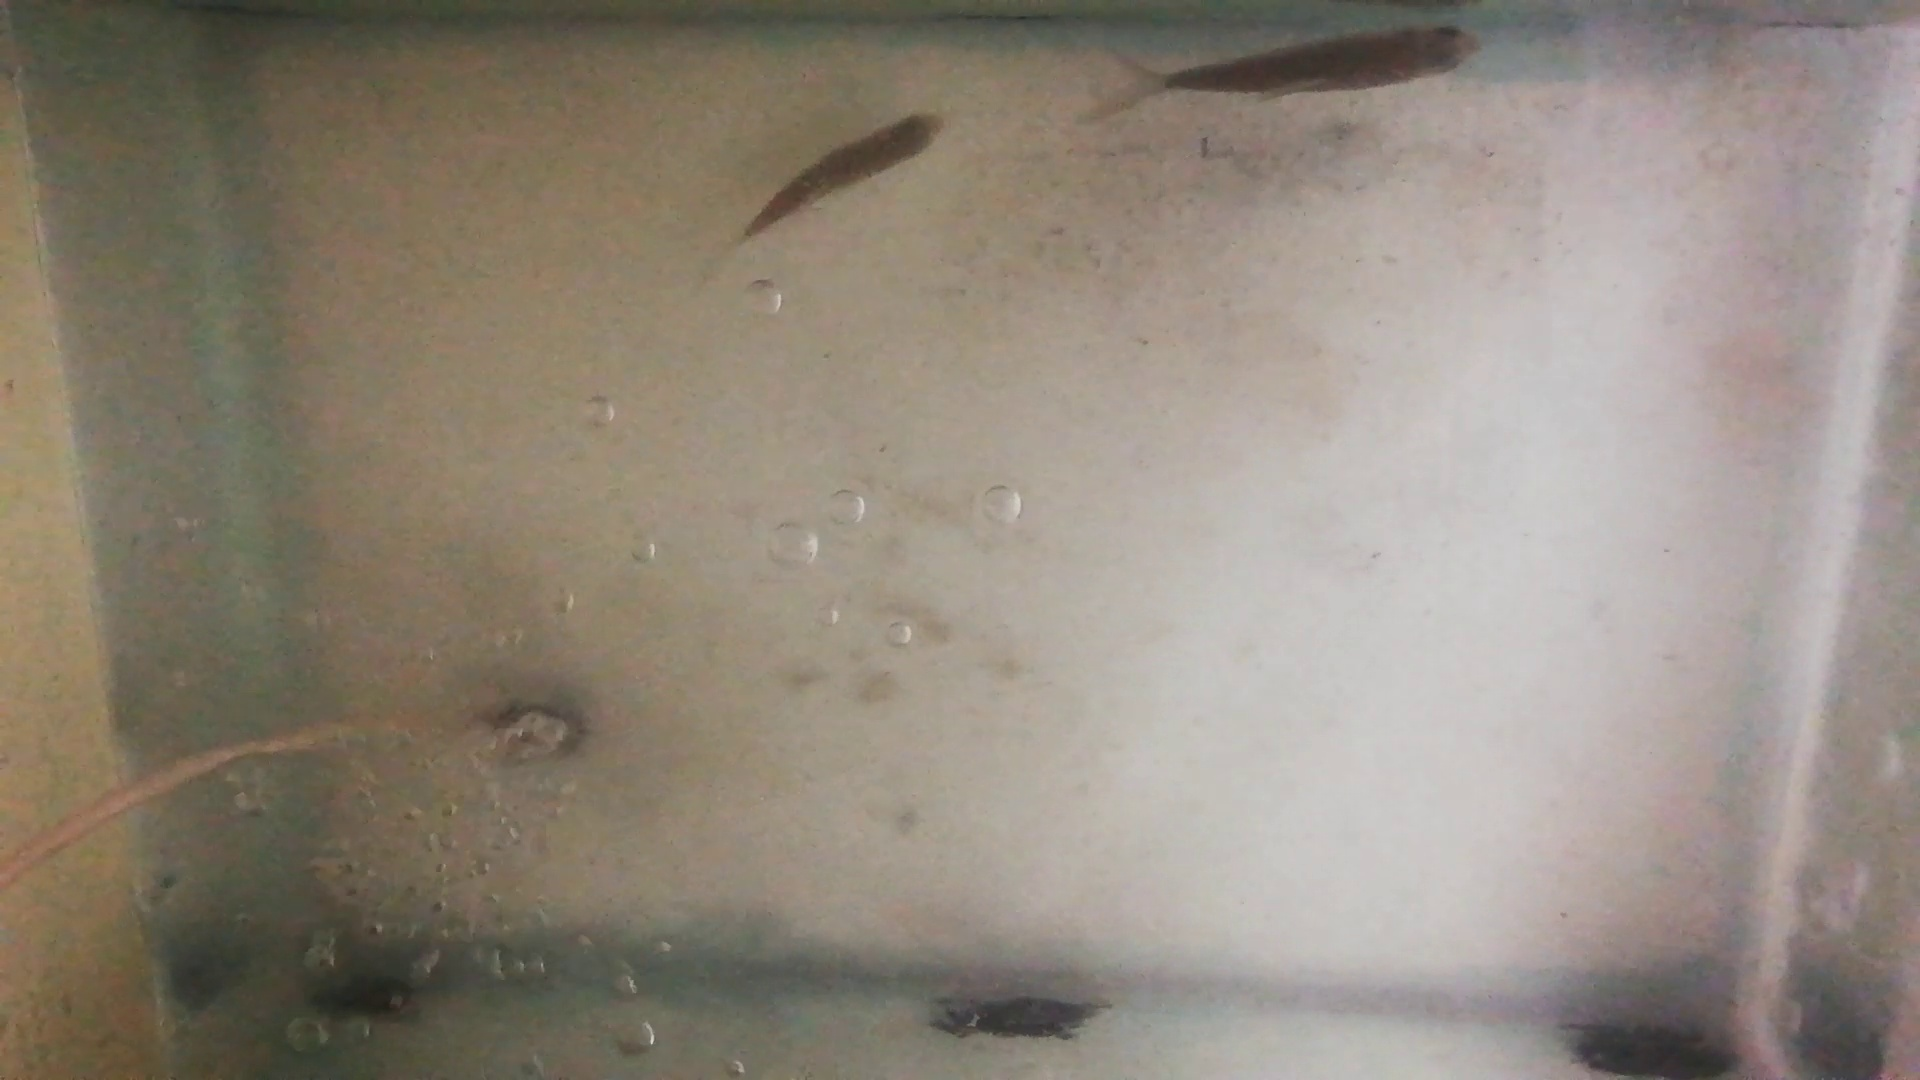fish: (745, 113, 948, 236), (1167, 26, 1485, 94)
